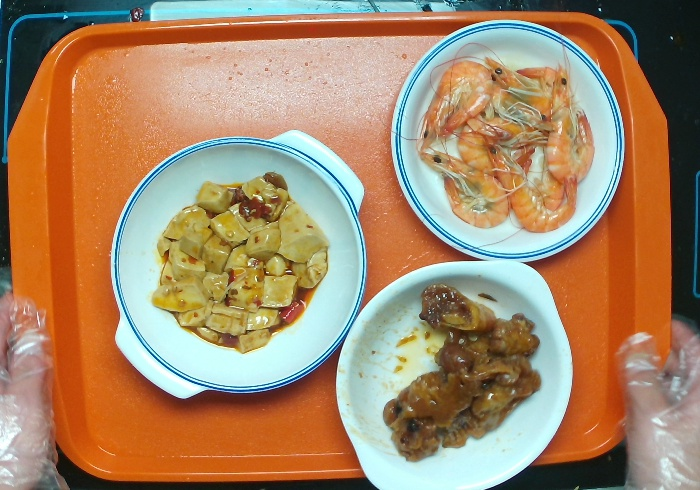HZYJPL-Dai_Er_Bai_Yuan_Wan: (334, 255, 574, 490)
HZYJPL-Lan_Bian_Dai_Er_Wan: (108, 129, 371, 400)
HZYJPL-Lan_Bian_Yuan_Die: (391, 18, 628, 269)
